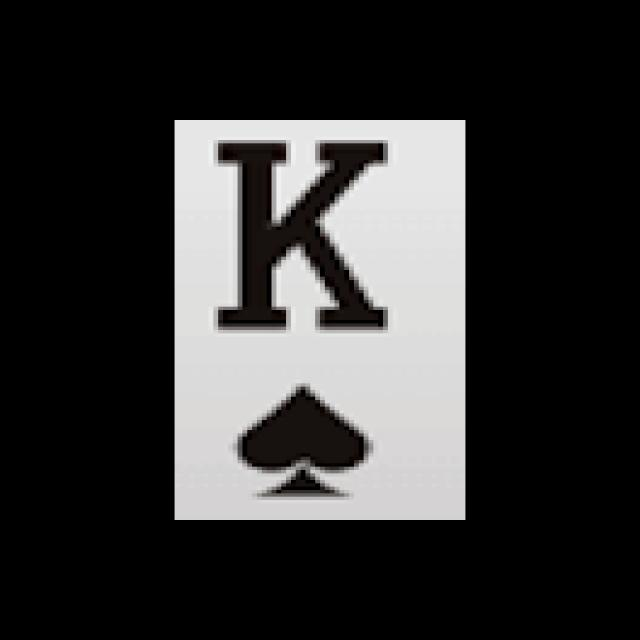KS: (188, 130, 433, 510)
